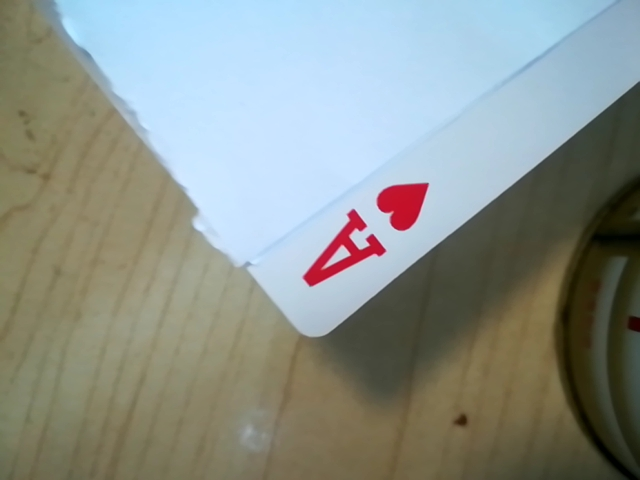hx a: (282, 177, 437, 301)
